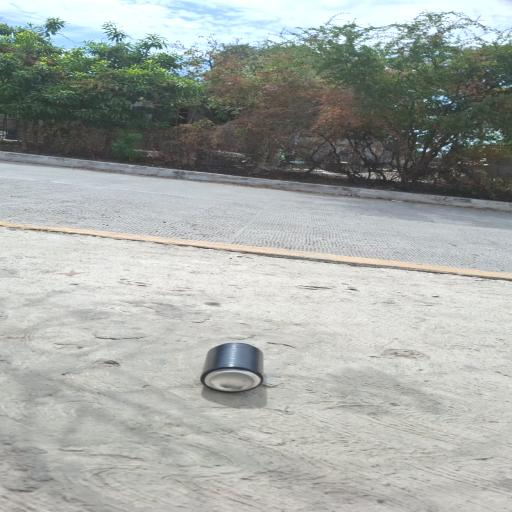LATA: (182, 342, 280, 399)
